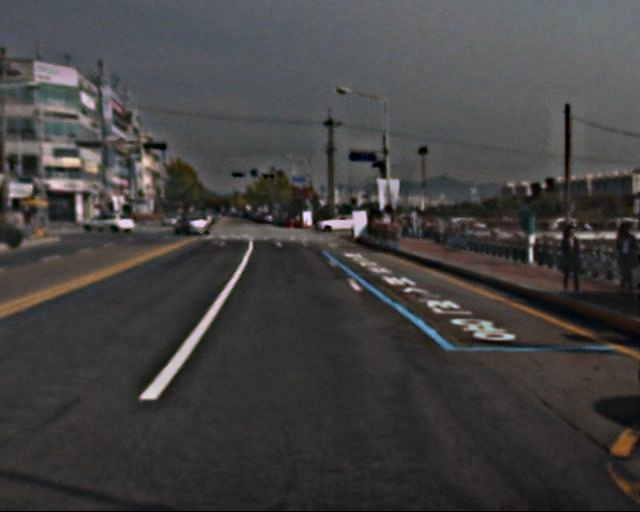person: (608, 220, 639, 296), (558, 225, 587, 296)
